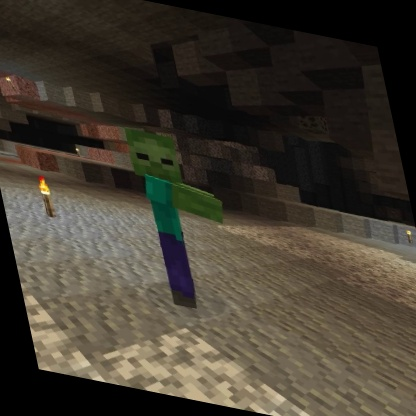zombie: (118, 123, 253, 324)
